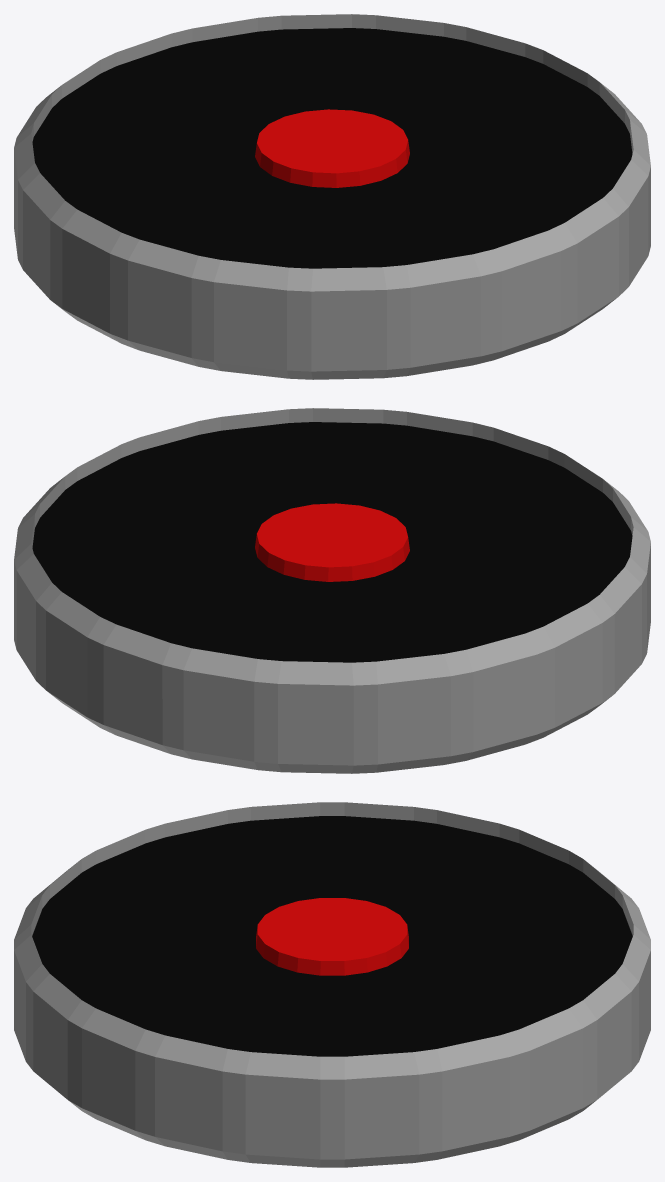
The model's file is Mine.fbx.
3 renders of one model, top to bottom at view 1: azimuth 30°, elevation 25°; view 2: azimuth 150°, elevation 25°; view 3: azimuth 270°, elevation 25°, orthographic.
Parts seen in each view (by area): view 1: pCylinder2; view 2: pCylinder2; view 3: pCylinder2.
Boxes of the visible parts, left/top/right/bottom form: pCylinder2: left=14, top=14, right=650, bottom=379; pCylinder2: left=14, top=408, right=650, bottom=773; pCylinder2: left=14, top=802, right=650, bottom=1167.
Bounding box in the file's own units: 1.99 × 0.3822 × 1.99.
